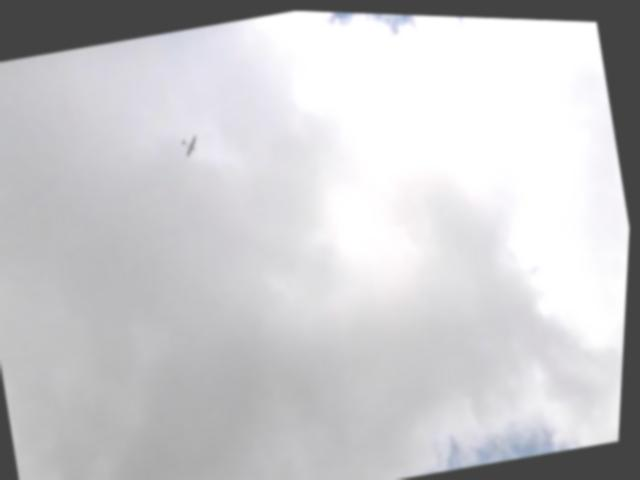iha: (178, 129, 208, 159)
